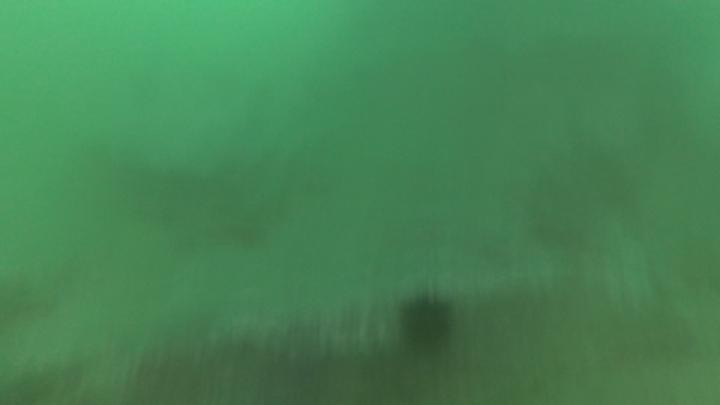echinus: (392, 285, 461, 359)
